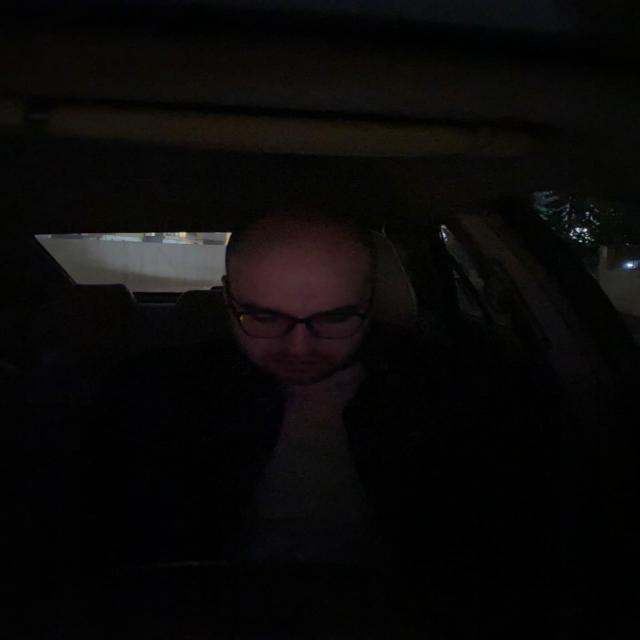drowsy: (219, 224, 376, 389)
